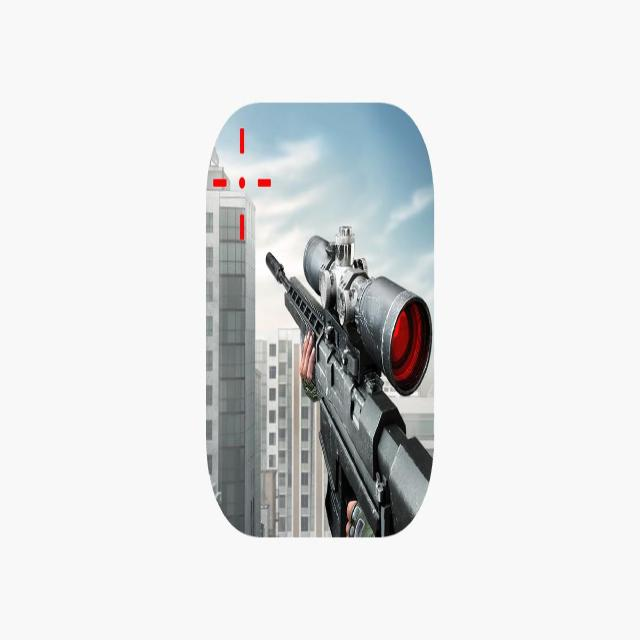weapon: (264, 225, 434, 538)
